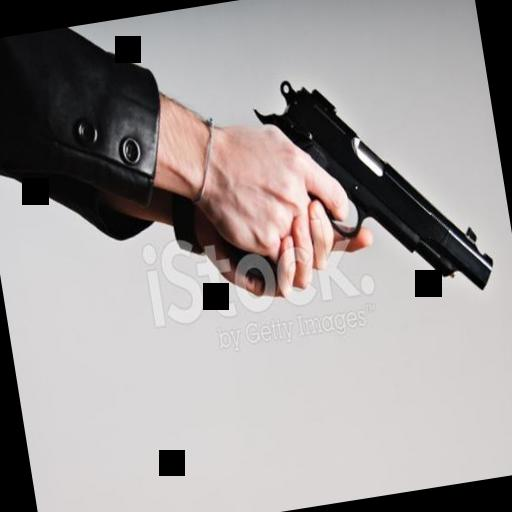Handgun: (196, 50, 498, 332)
